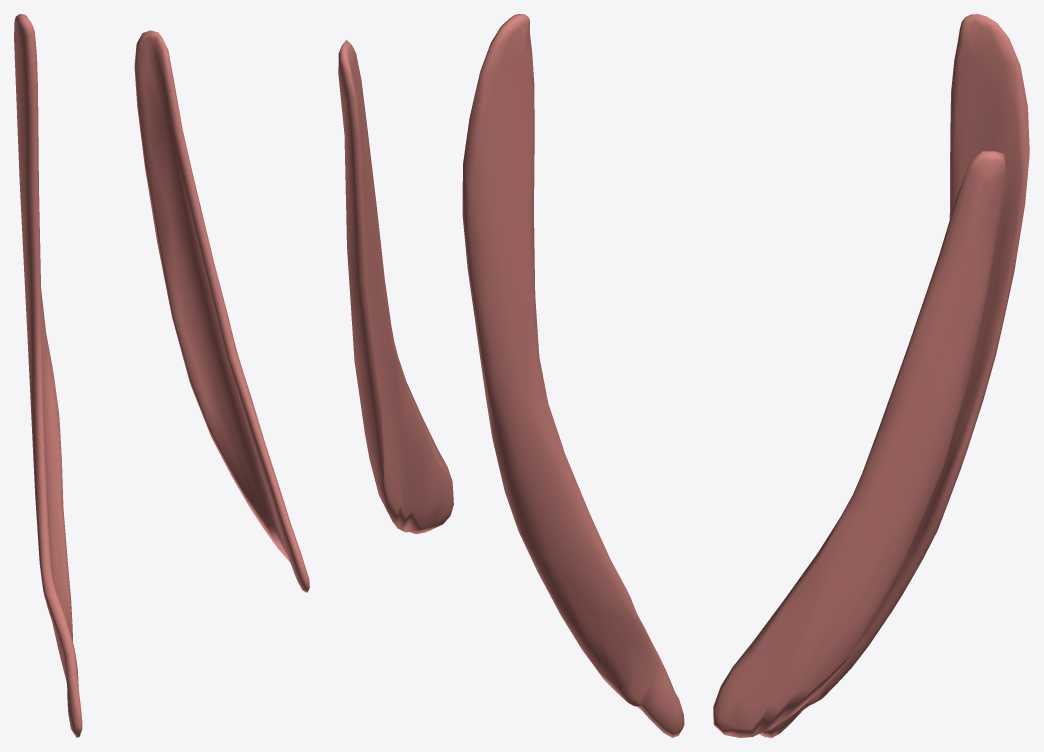
3 views of the same model, side by side, from view 1: azimuth 30°, elevation 25°; view 2: azimuth 150°, elevation 25°; view 3: azimuth 270°, elevation 25° (orthographic). The views are drawn at different scales.
Visible parts, largest first — view 1: ZA_6e40500c375e183f; view 2: ZA_6e40500c375e183f; view 3: ZA_6e40500c375e183f.
Boxes of the visible parts, bbox=[...] form: ZA_6e40500c375e183f: bbox=[14, 14, 309, 737]; ZA_6e40500c375e183f: bbox=[338, 14, 684, 737]; ZA_6e40500c375e183f: bbox=[713, 14, 1029, 737].
Bounding box in the file's own units: 0.0108 × 0.0295 × 0.0114.
